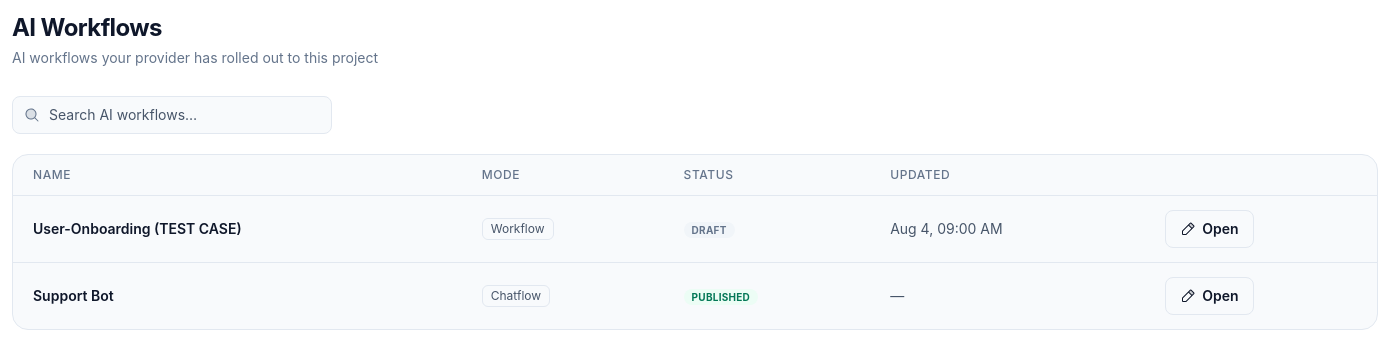
Test: Dify apps list › filters by name
The width and height of the screenshot is (1378, 347).
Expected: the link "Support Bot" is shown, [33,287,114,304]
Type "support" into the field with placeholder "Search AI workflows…" at (172, 115), box [12,96,332,134]
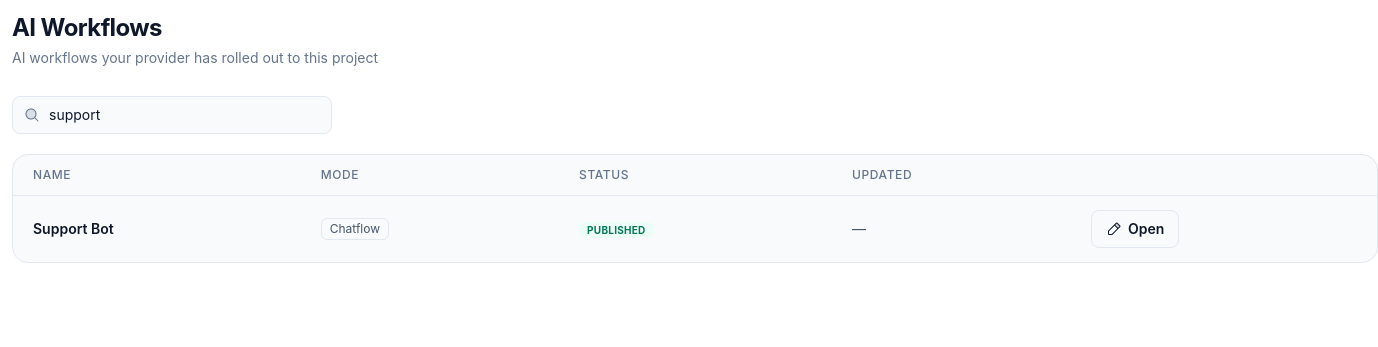
Expected: the link "Support Bot" is shown, [33,220,114,237]
Result: the link "User-Onboarding (TEST CASE)" is gone
